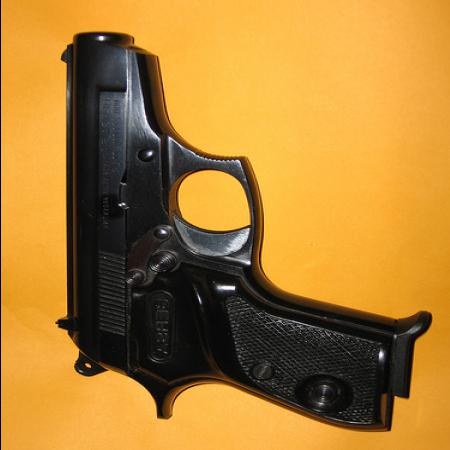Pistol: (53, 30, 431, 430)
